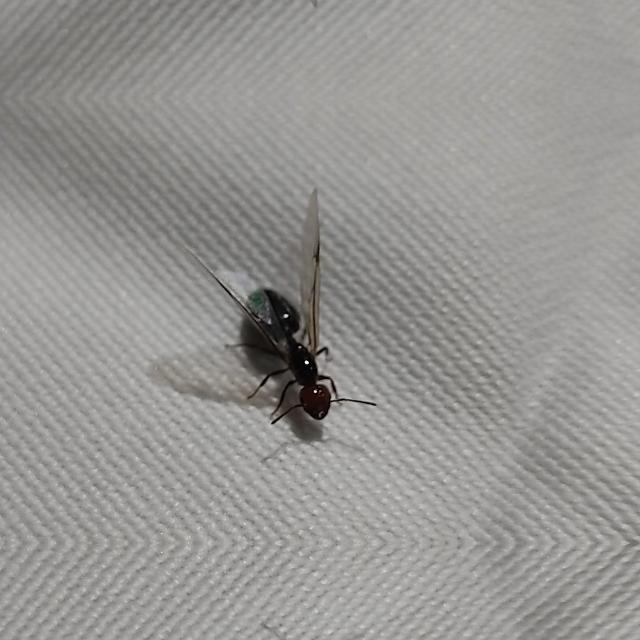Crematogaster: (232, 259, 346, 427)
